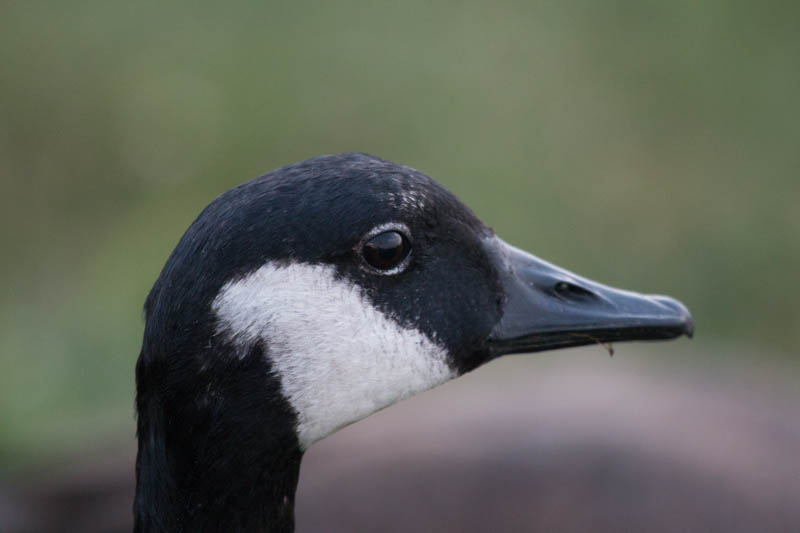goose-head: (135, 150, 696, 461)
